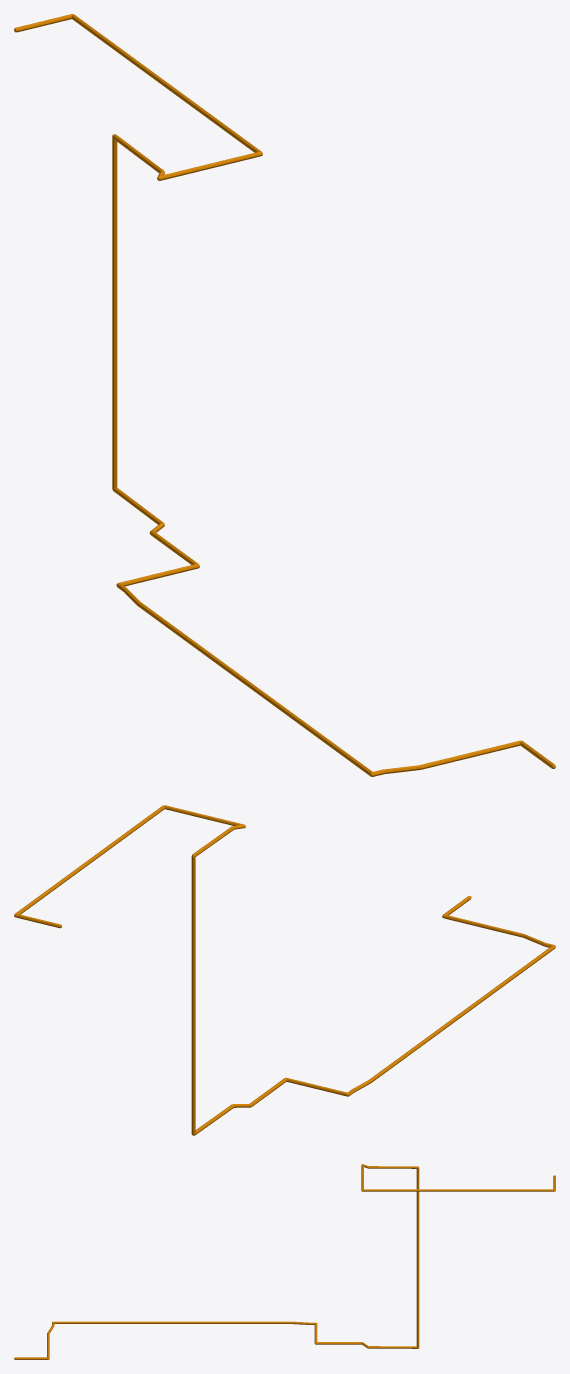
3 renders of one model, top to bottom at view 1: azimuth 30°, elevation 25°; view 2: azimuth 150°, elevation 25°; view 3: azimuth 270°, elevation 25°, orthographic. The views are drawn at different scales.
Bounding box in the file's own units: 871 × 1520 × 4094.
